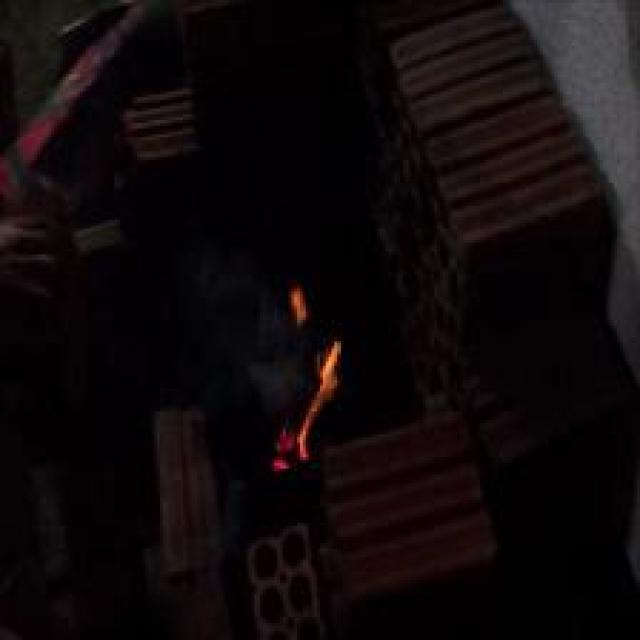Fire: (272, 292, 342, 472)
